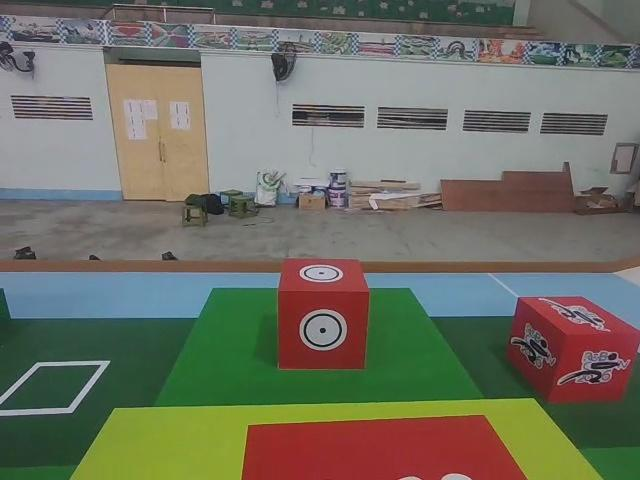R1: (503, 294, 637, 407)
R2 Real: (275, 255, 371, 371)
